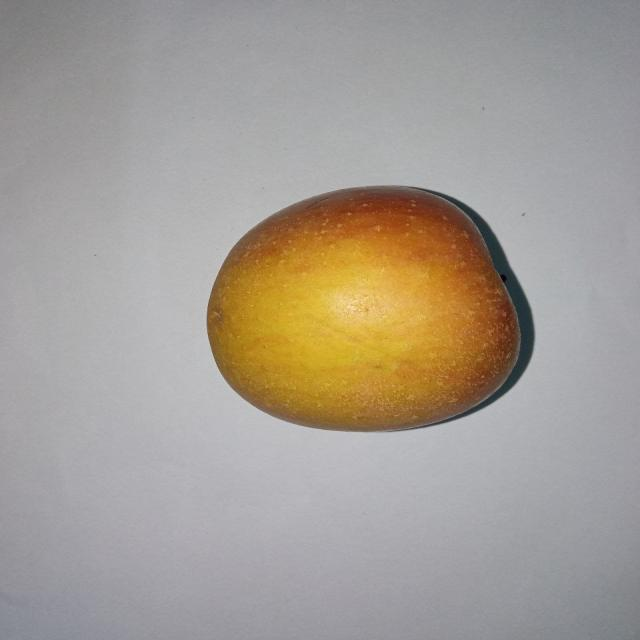fresh_apple: (203, 184, 524, 431)
